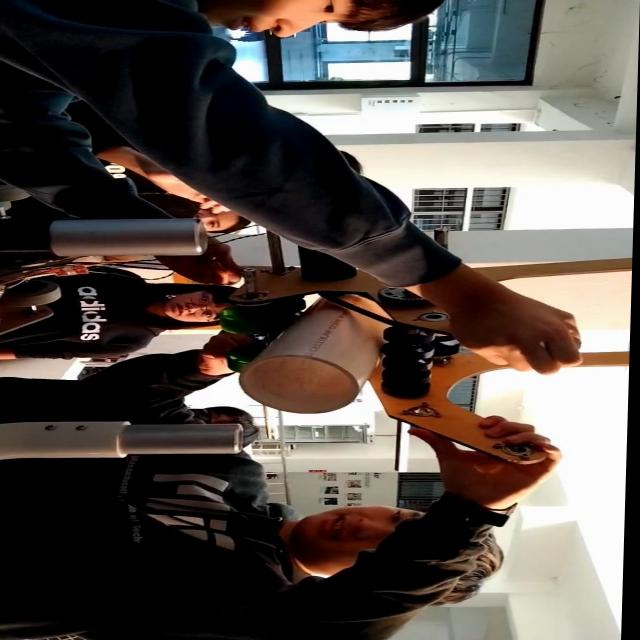CORAL: (231, 294, 398, 414)
